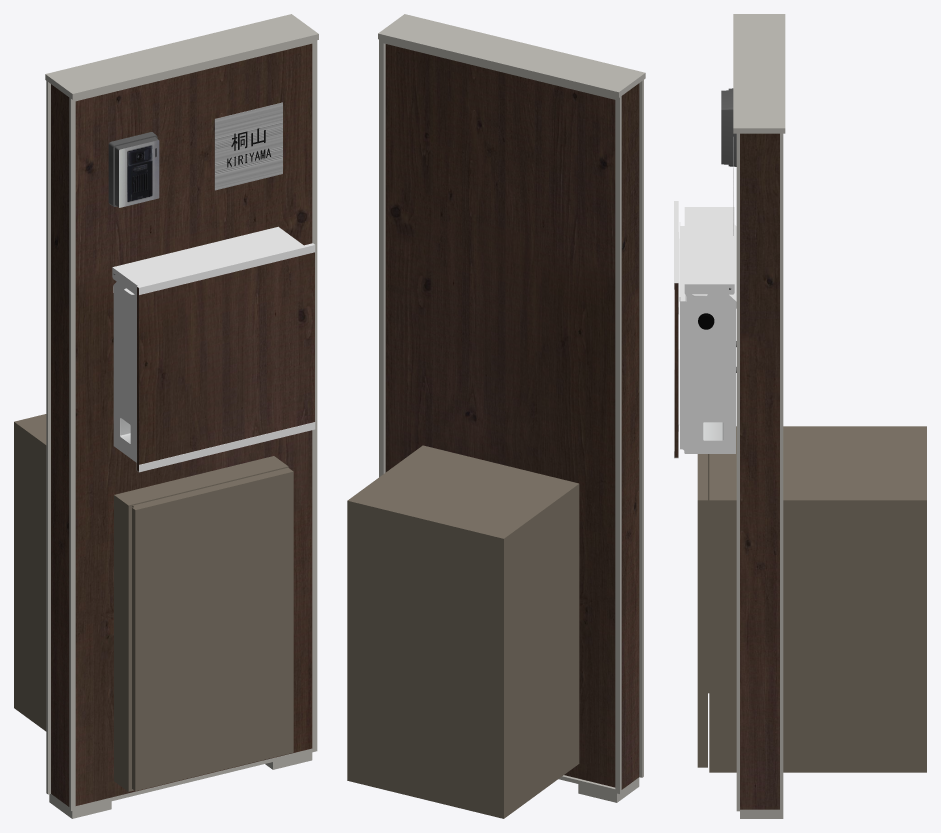
File: de-boxmonchu_darkpine.fbx
3 renders of one model, left to right at view 1: azimuth 30°, elevation 25°; view 2: azimuth 150°, elevation 25°; view 3: azimuth 270°, elevation 25°, orthographic. The views are drawn at different scales.
Parts seen in each view (by area): view 1: darkpine; view 2: darkpine; view 3: darkpine.
Boxes of the visible parts, x1,y1,x2,y2 form: darkpine: (14, 14, 318, 818); darkpine: (347, 14, 645, 818); darkpine: (674, 14, 926, 818).
Bounding box in the file's own units: 53.1 × 150 × 49.65.
11 materials, 3 textured.
